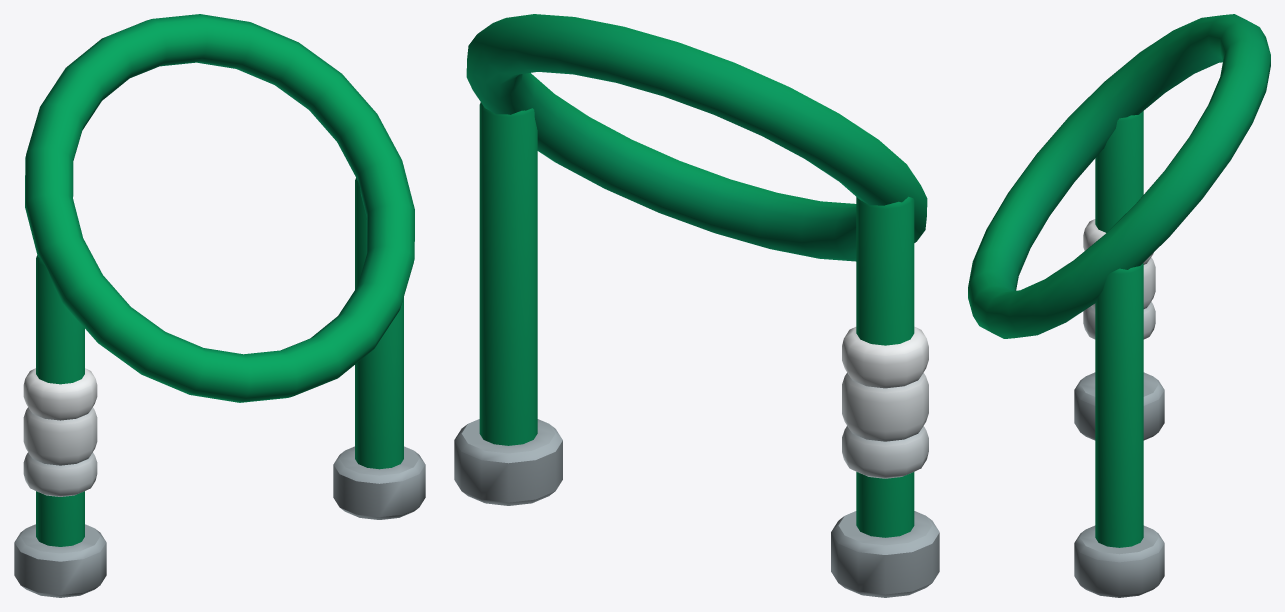
Rendered from hoop_angled_green.glb.
3 views of the same model, side by side, from view 1: azimuth 30°, elevation 25°; view 2: azimuth 150°, elevation 25°; view 3: azimuth 270°, elevation 25° (orthographic). The views are drawn at different scales.
Parts seen in each view (by area): view 1: hoop_angled_green; view 2: hoop_angled_green; view 3: hoop_angled_green.
Part boxes in pixels (x1,y1,x2,y2): hoop_angled_green: [14, 14, 425, 597]; hoop_angled_green: [454, 14, 939, 597]; hoop_angled_green: [968, 14, 1270, 597].
Size of the model in its own units: 3.75 by 4.25 by 2.51.
1 material, 1 textured.
